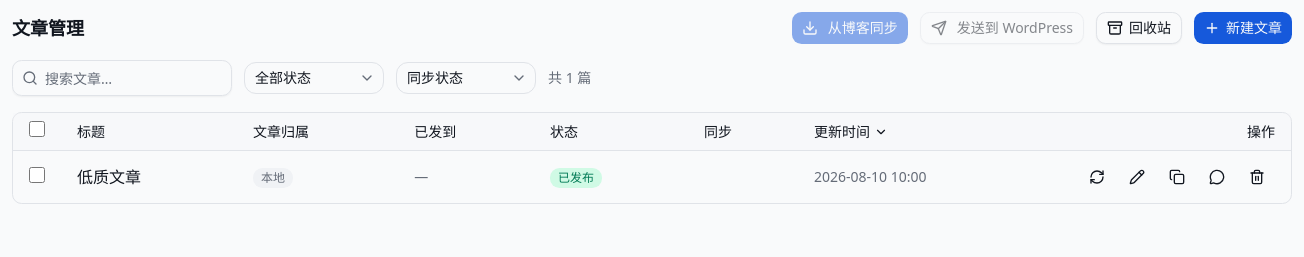
Scenario: ArticlesClient › 点击 AI 刷新成功显示 SEO 评分 old→new 对比
The image size is (1304, 257).
Expected: the text "低质文章" is shown, [61, 150, 237, 203]
Step 1. Click the button with test id "refresh-s1" → (1097, 177), box [1079, 159, 1115, 195]
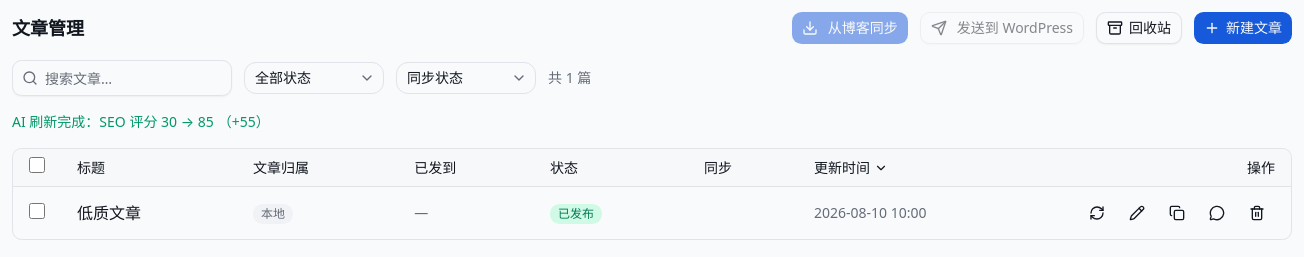
Expected: the element with test id "refresh-outcome" shows "AI 刷新完成", [12, 112, 161, 131]
Expected: the element with test id "refresh-outcome" reads "AI 刷新完成：SEO 评分 30 → 85（+55）", [12, 112, 270, 131]
